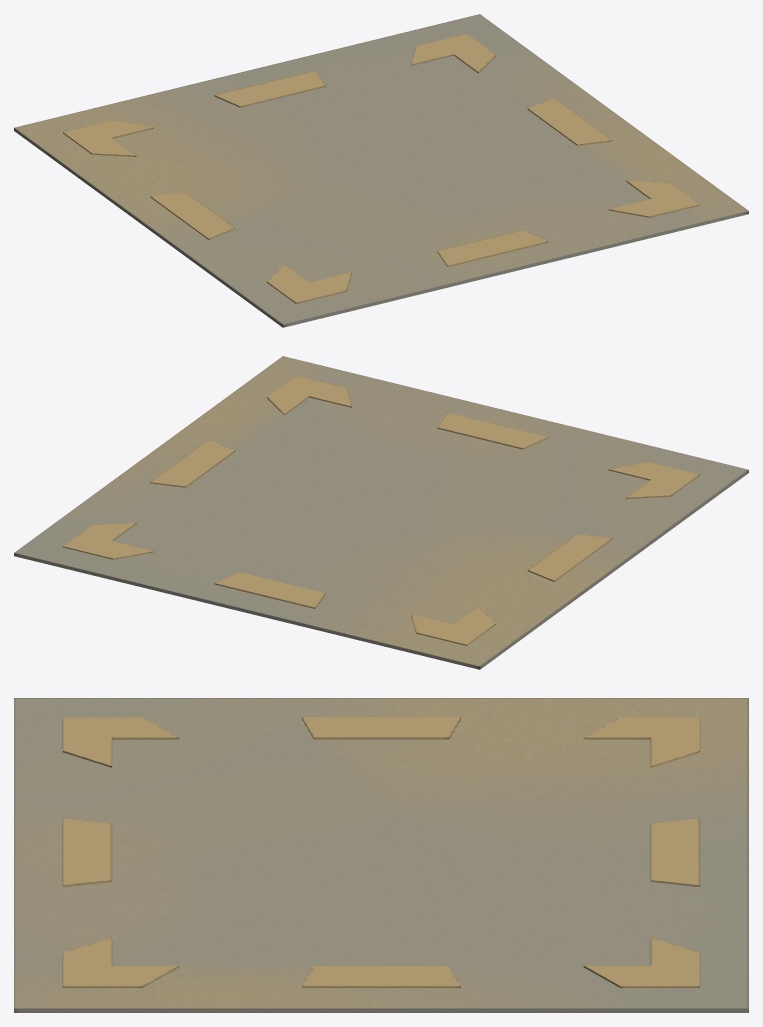
File: Floor 1.fbx
3 views of the same model, one above another, from view 1: azimuth 30°, elevation 25°; view 2: azimuth 150°, elevation 25°; view 3: azimuth 270°, elevation 25° (orthographic). The views are drawn at different scales.
Visible parts, largest first — view 1: Floor; view 2: Floor; view 3: Floor.
Part boxes in pixels (box(x1,y1,x2,y2)): Floor: box(14, 14, 748, 327); Floor: box(14, 356, 748, 669); Floor: box(14, 698, 748, 1012).
Size of the model in its own units: 2139 by 19.12 by 2139.
